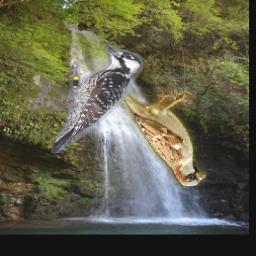Sparrow: (112, 78, 206, 186)
Woodpecker: (50, 45, 142, 154)
